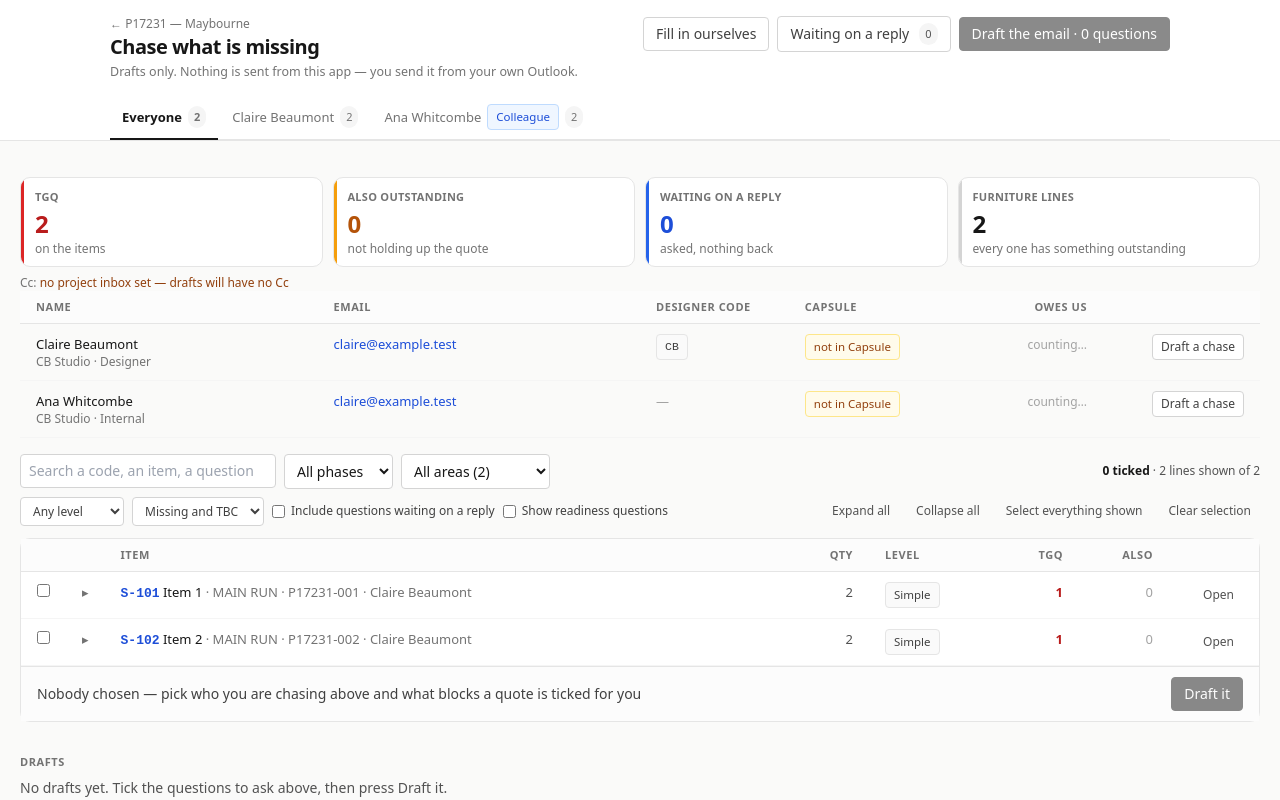
it: the contact strip › counts a colleague's questions once, and drafts one email
The image size is (1280, 800).
Click the tab "Ana Whitcombe Colleague 2".
click(484, 118)  # box [372,96,595,140]
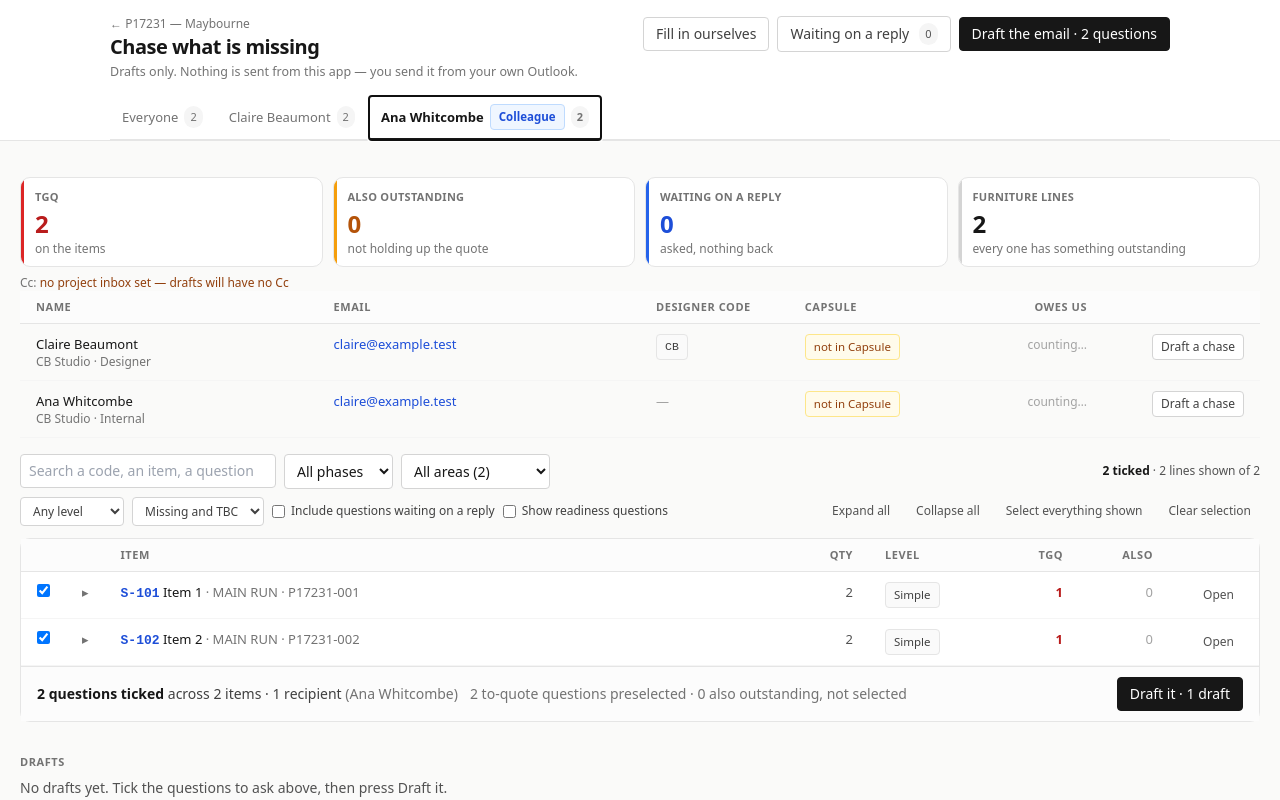
Expected: the text "Item 1" is shown once, [163,582,202,600]
Now the text "2 questions ticked" is shown, box [37,684,164,702]
Now the button "Draft it · 1 draft" is shown, box [1117,676,1243,710]
